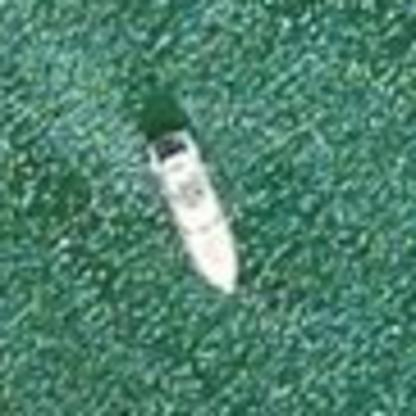ship: (138, 120, 258, 302)
